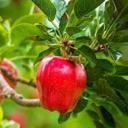apple: (37, 55, 87, 114)
